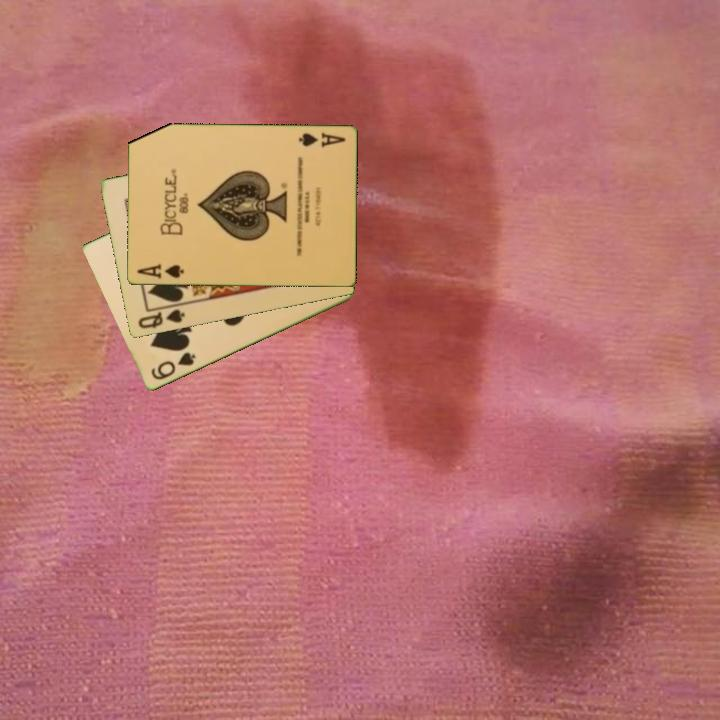6s: (147, 349, 199, 383)
As: (295, 129, 348, 151), (133, 261, 186, 282)
Qs: (134, 306, 188, 332)
